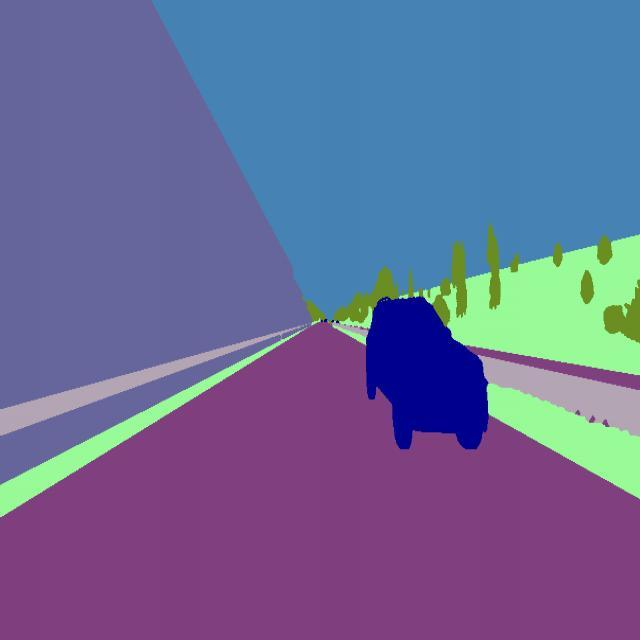unsafe: (361, 292, 495, 463)
